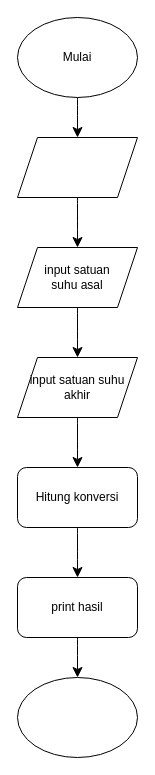
This 155x775 diagram has some shape labels left out. Here are the shapes that lost their labels. From the top down, the centre of each, then its label:
(x=77, y=167): Input suhu
(x=77, y=717): selesai
